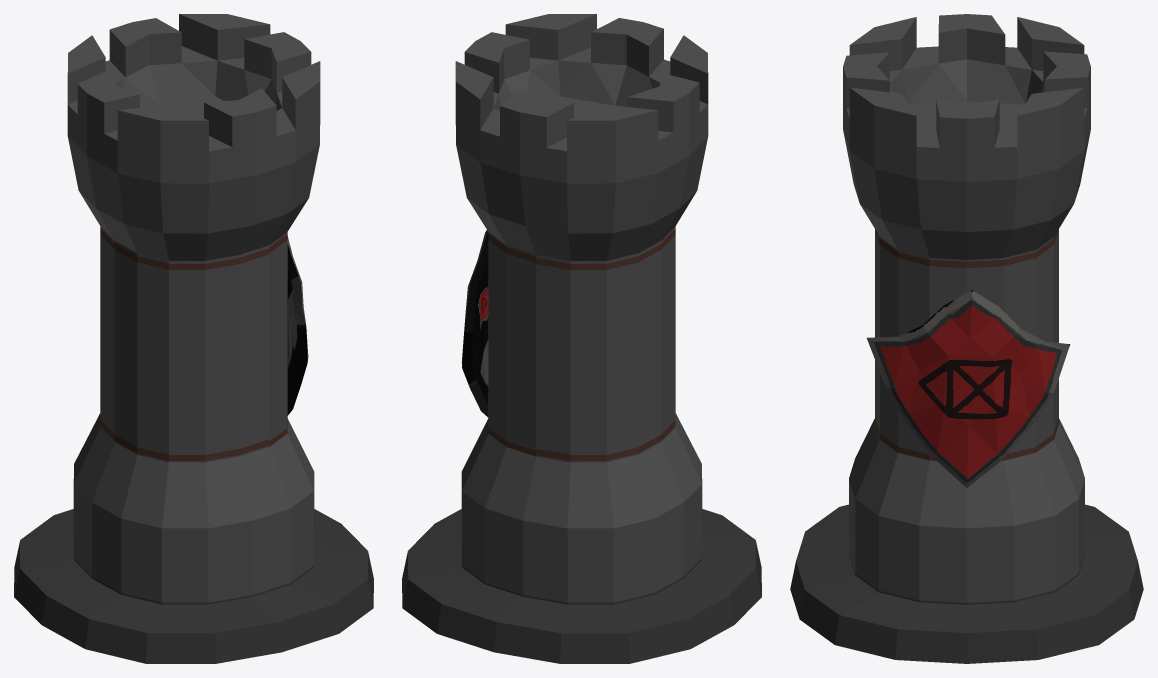
The model's file is castle.dae.
3 renders of one model, left to right at view 1: azimuth 30°, elevation 25°; view 2: azimuth 150°, elevation 25°; view 3: azimuth 270°, elevation 25°, orthographic.
Parts seen in each view (by area): view 1: Cube, Plane; view 2: Cube, Plane; view 3: Cube, Plane.
Part boxes in pixels (<box>): Cube: <box>14,14,373,663</box>; Plane: <box>287,236,308,415</box>; Cube: <box>402,14,761,663</box>; Plane: <box>461,230,488,417</box>; Cube: <box>790,14,1143,663</box>; Plane: <box>867,290,1070,487</box>.
Bounding box in the file's own units: 8.76 × 8.76 × 14.29.
Materials: 2 (2 with a texture image).
